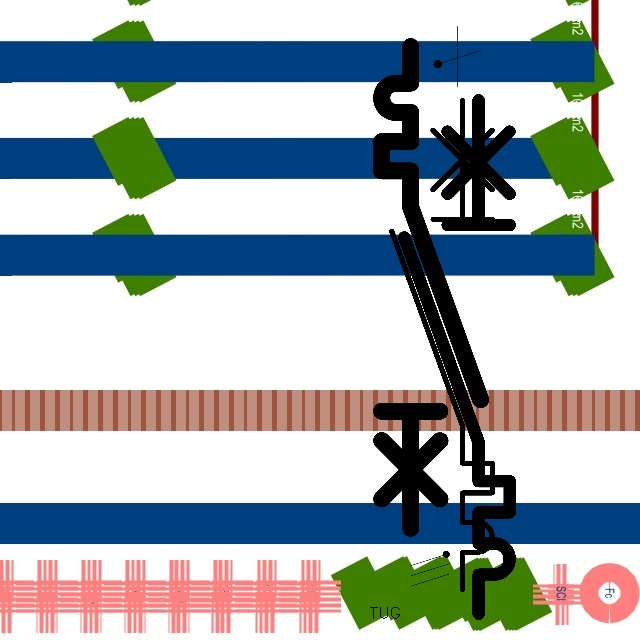interruptor_termomagnetico: (391, 87, 523, 627), (379, 88, 505, 602), (369, 34, 493, 540)
